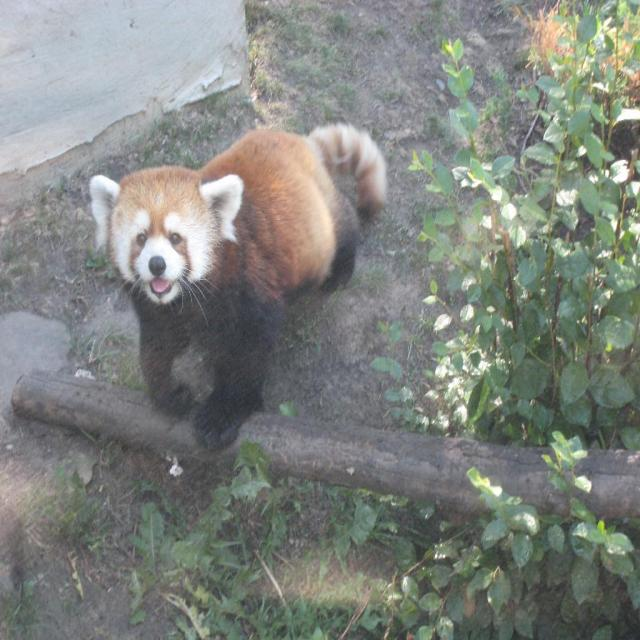Bear: (89, 122, 388, 451)
